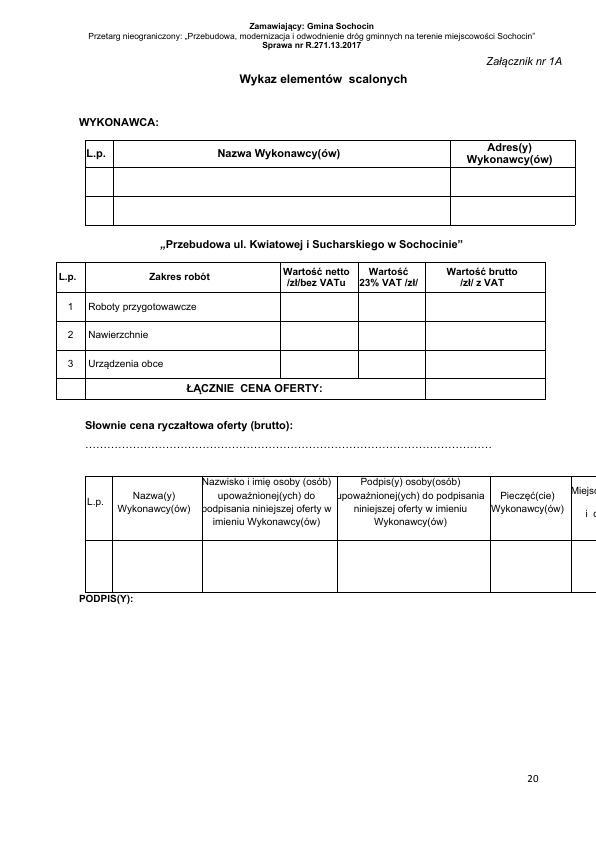table: (51, 260, 551, 407), (82, 470, 595, 597), (81, 137, 580, 229)
text: (86, 18, 540, 54), (154, 234, 465, 254), (82, 414, 296, 434), (235, 67, 408, 89), (76, 114, 163, 131), (483, 54, 564, 71), (75, 594, 134, 607)
